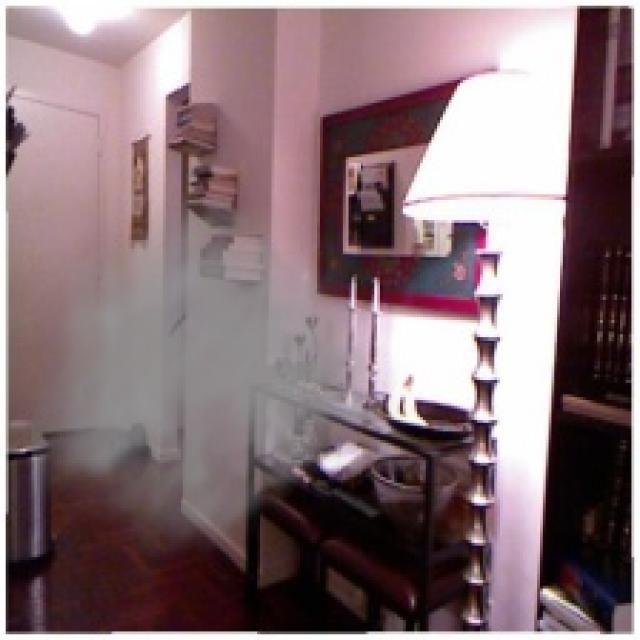smoke: (32, 183, 414, 568)
